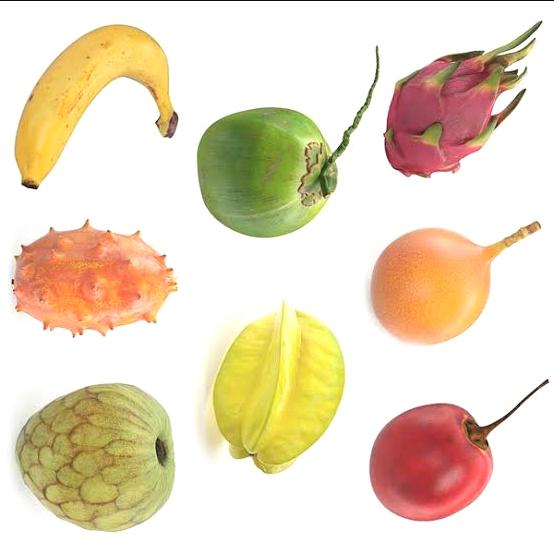chuoi: (11, 21, 179, 204)
thanh_long: (382, 37, 536, 176)
